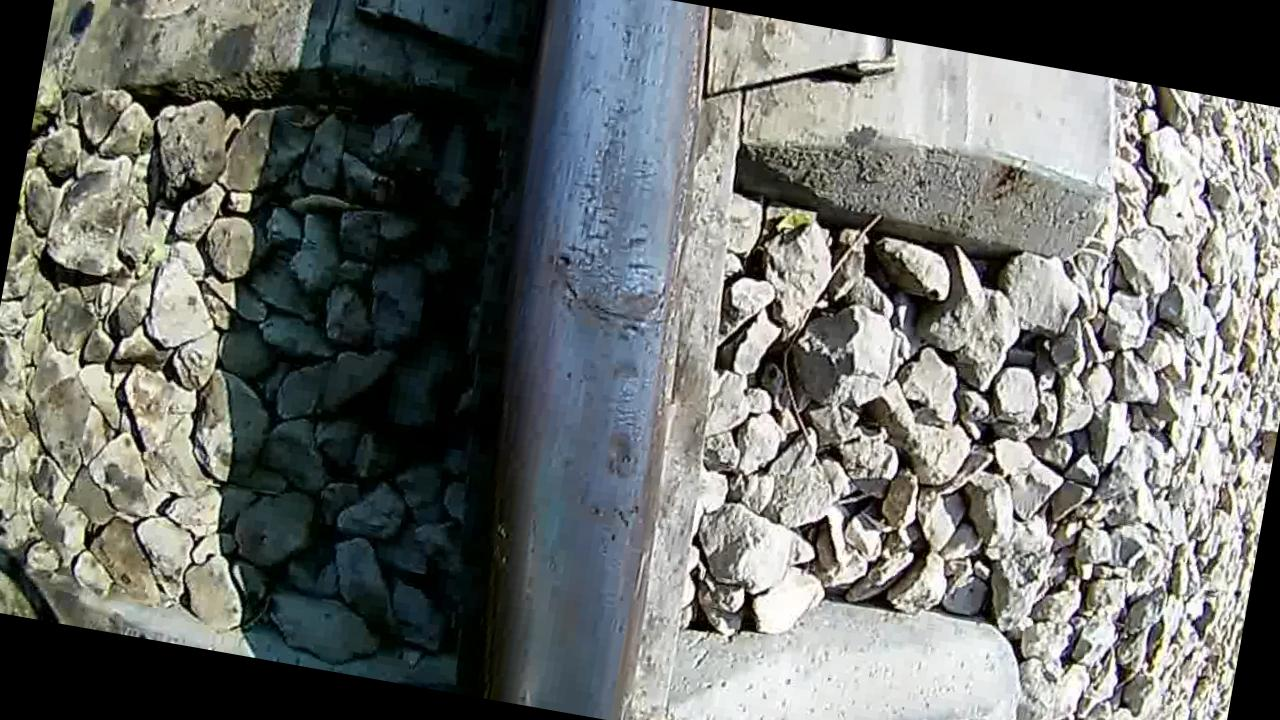crack: (427, 0, 770, 720)
